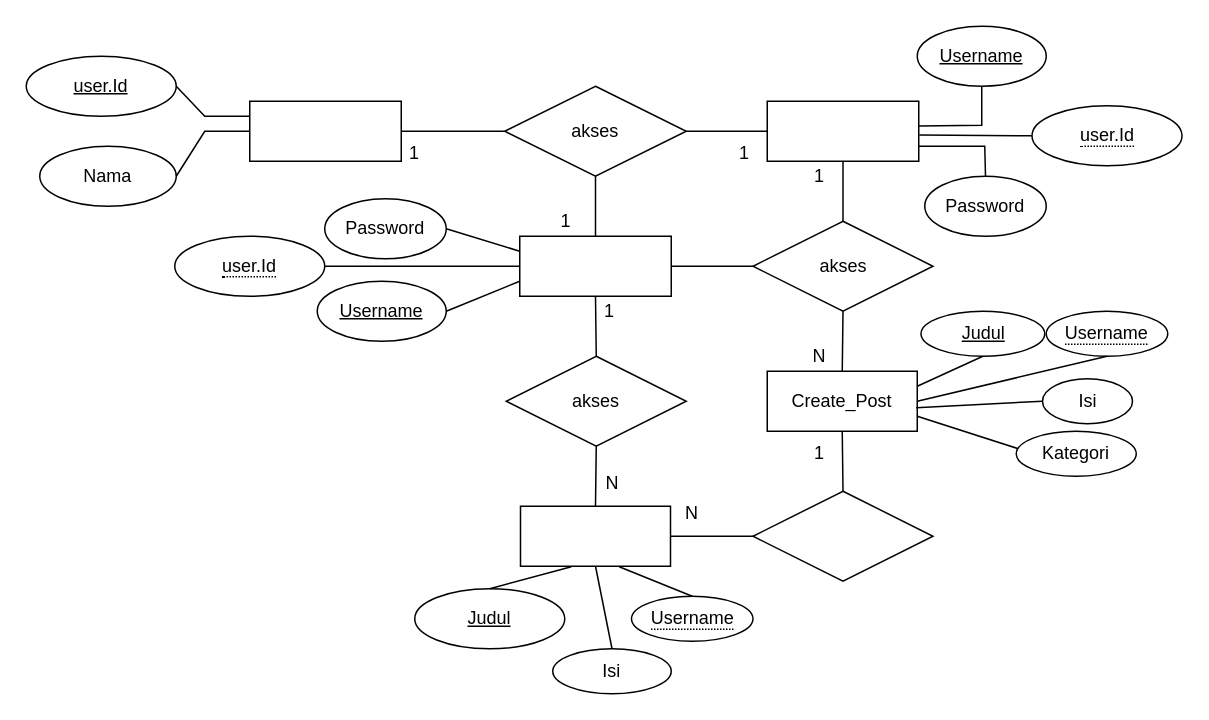
This 1209x720 diagram has some shape labels left out. Here are the shapes that lost their labels. From the top down, the centre of each, then its label:
At (324,130): "User".
At (842,130): "Register".
At (594,265): "Login".
At (594,535): "Komentar".
At (842,535): "mengelola".
